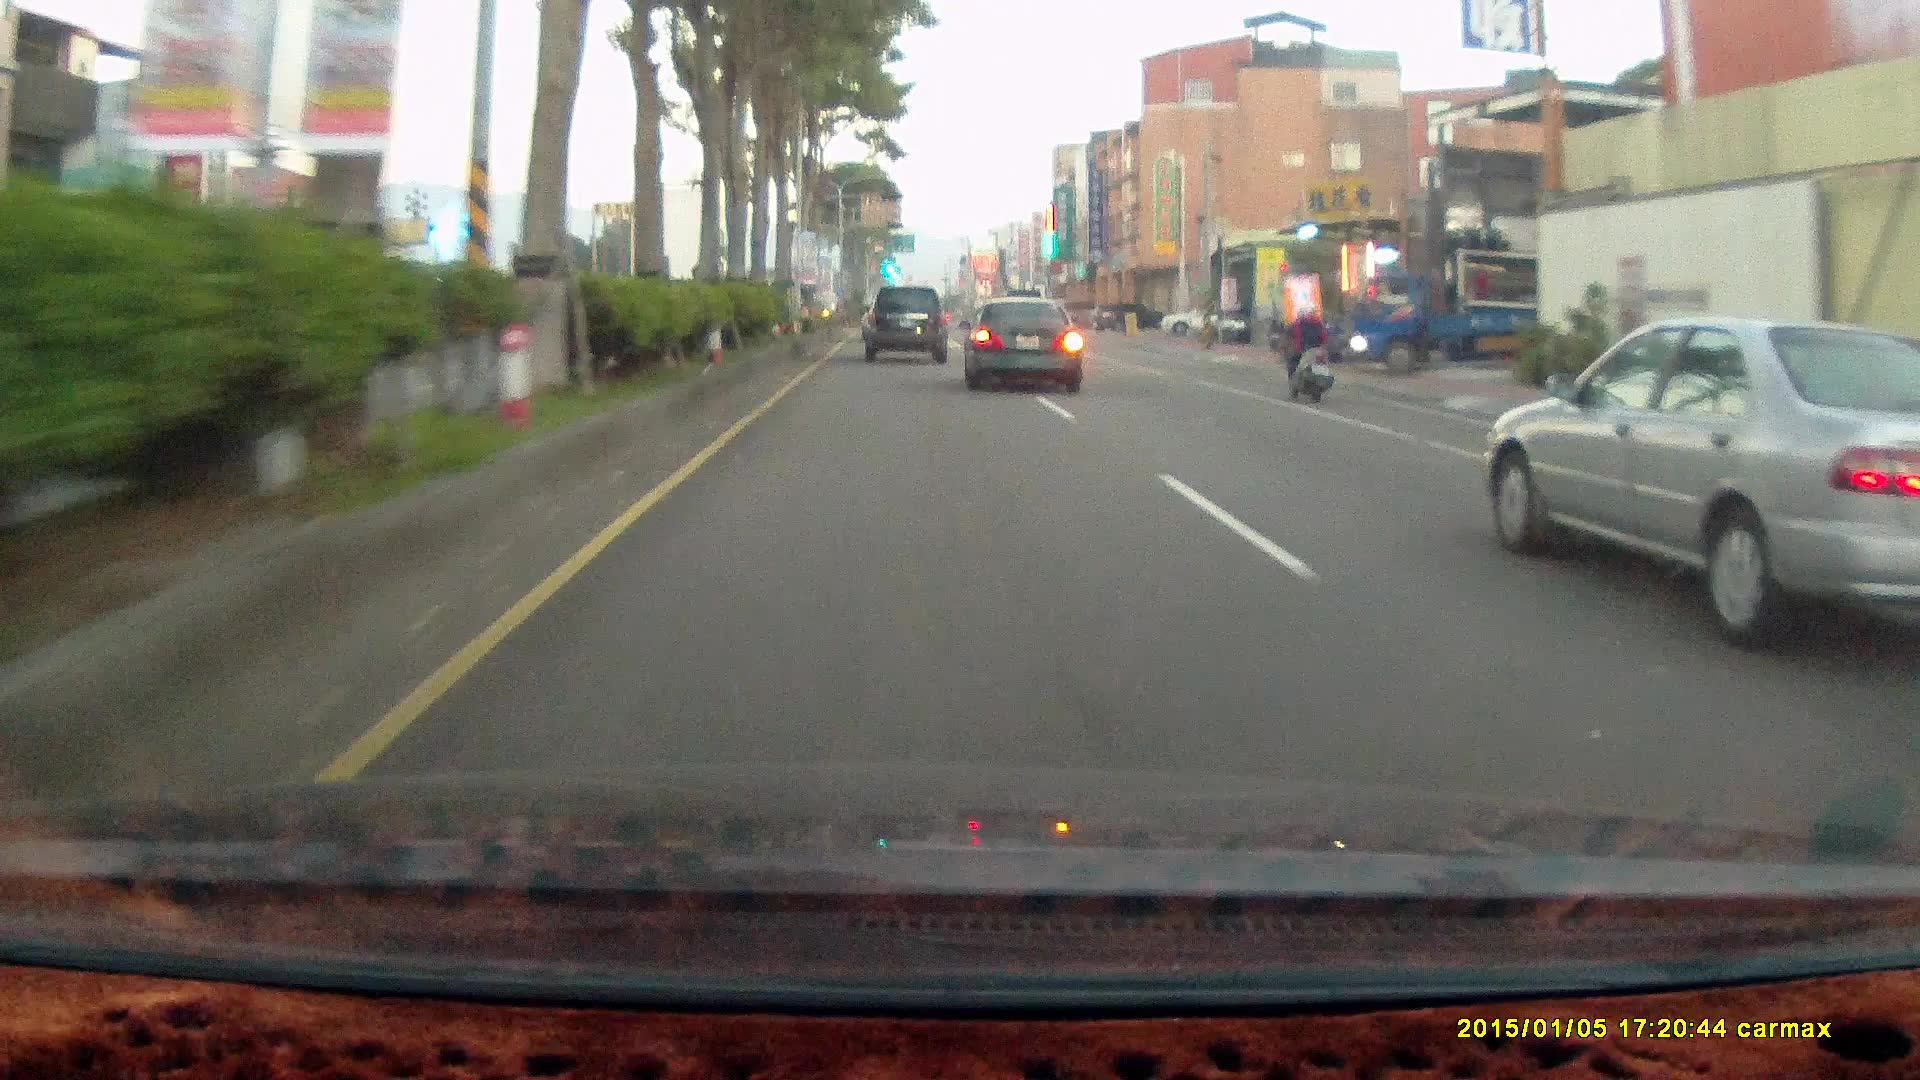rider: (1273, 294, 1345, 411), (1281, 291, 1338, 397)
vehicle: (1479, 313, 1919, 649), (1480, 314, 1920, 649), (1347, 270, 1590, 377), (1350, 266, 1537, 366), (955, 294, 1081, 392), (970, 295, 1092, 386), (861, 285, 948, 362), (863, 282, 953, 356), (1160, 306, 1235, 339), (1091, 301, 1165, 332)
